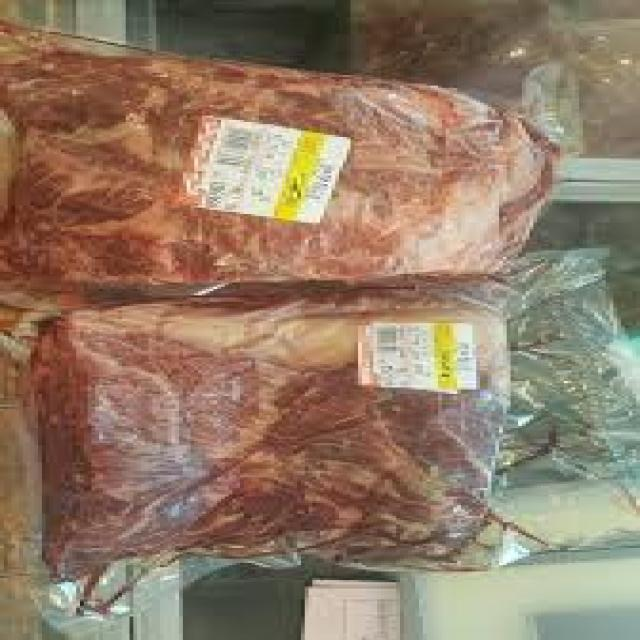pork: (0, 3, 558, 291), (25, 301, 596, 578)
